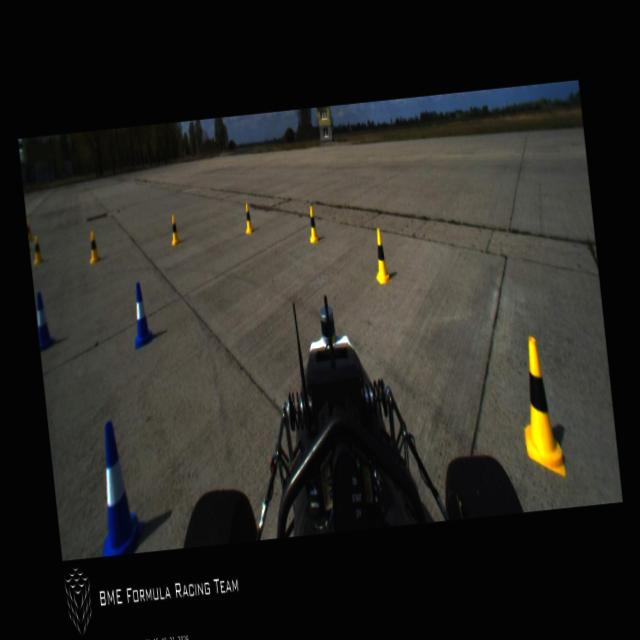blue_cone: (90, 418, 146, 556), (128, 280, 154, 348), (34, 291, 57, 354)
yellow_cone: (512, 333, 566, 479), (370, 228, 390, 285), (306, 205, 320, 243), (86, 230, 100, 263), (31, 233, 44, 265), (242, 202, 254, 234), (168, 214, 180, 246), (26, 216, 32, 242)
